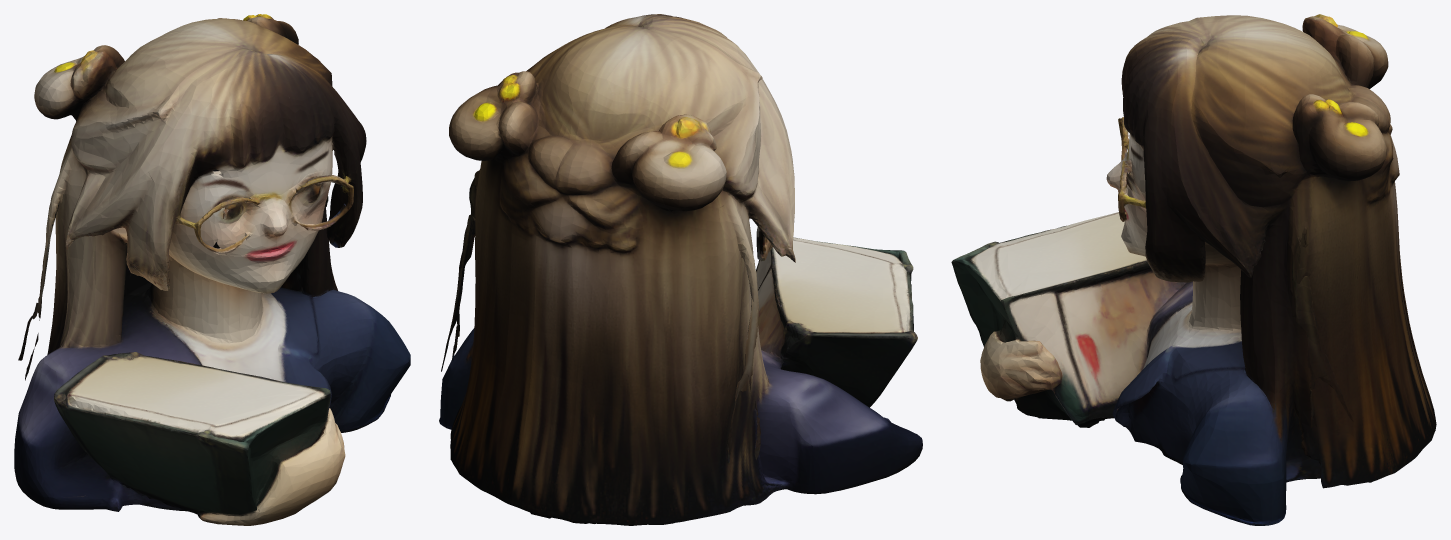
The model's file is mei.glb.
The picture shows the model from 3 angles, left to right: view 1: azimuth 30°, elevation 25°; view 2: azimuth 150°, elevation 25°; view 3: azimuth 270°, elevation 25°; orthographic projection. The views are drawn at different scales.
Parts seen in each view (by area): view 1: world; view 2: world; view 3: world.
Part boxes in pixels (left/top/right/bottom): world: left=14, top=14, right=410, bottom=525; world: left=439, top=14, right=922, bottom=525; world: left=951, top=14, right=1436, bottom=525.
Size of the model in its own units: 0.6099 by 0.5745 by 0.6239.
1 material, 1 textured.
